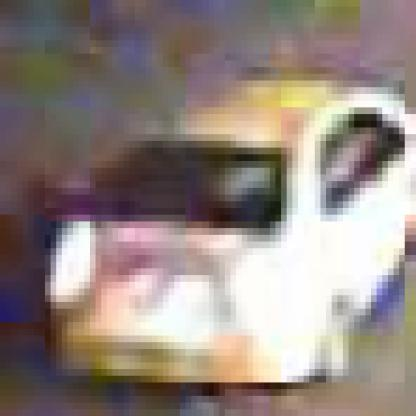car: (46, 68, 411, 390)
